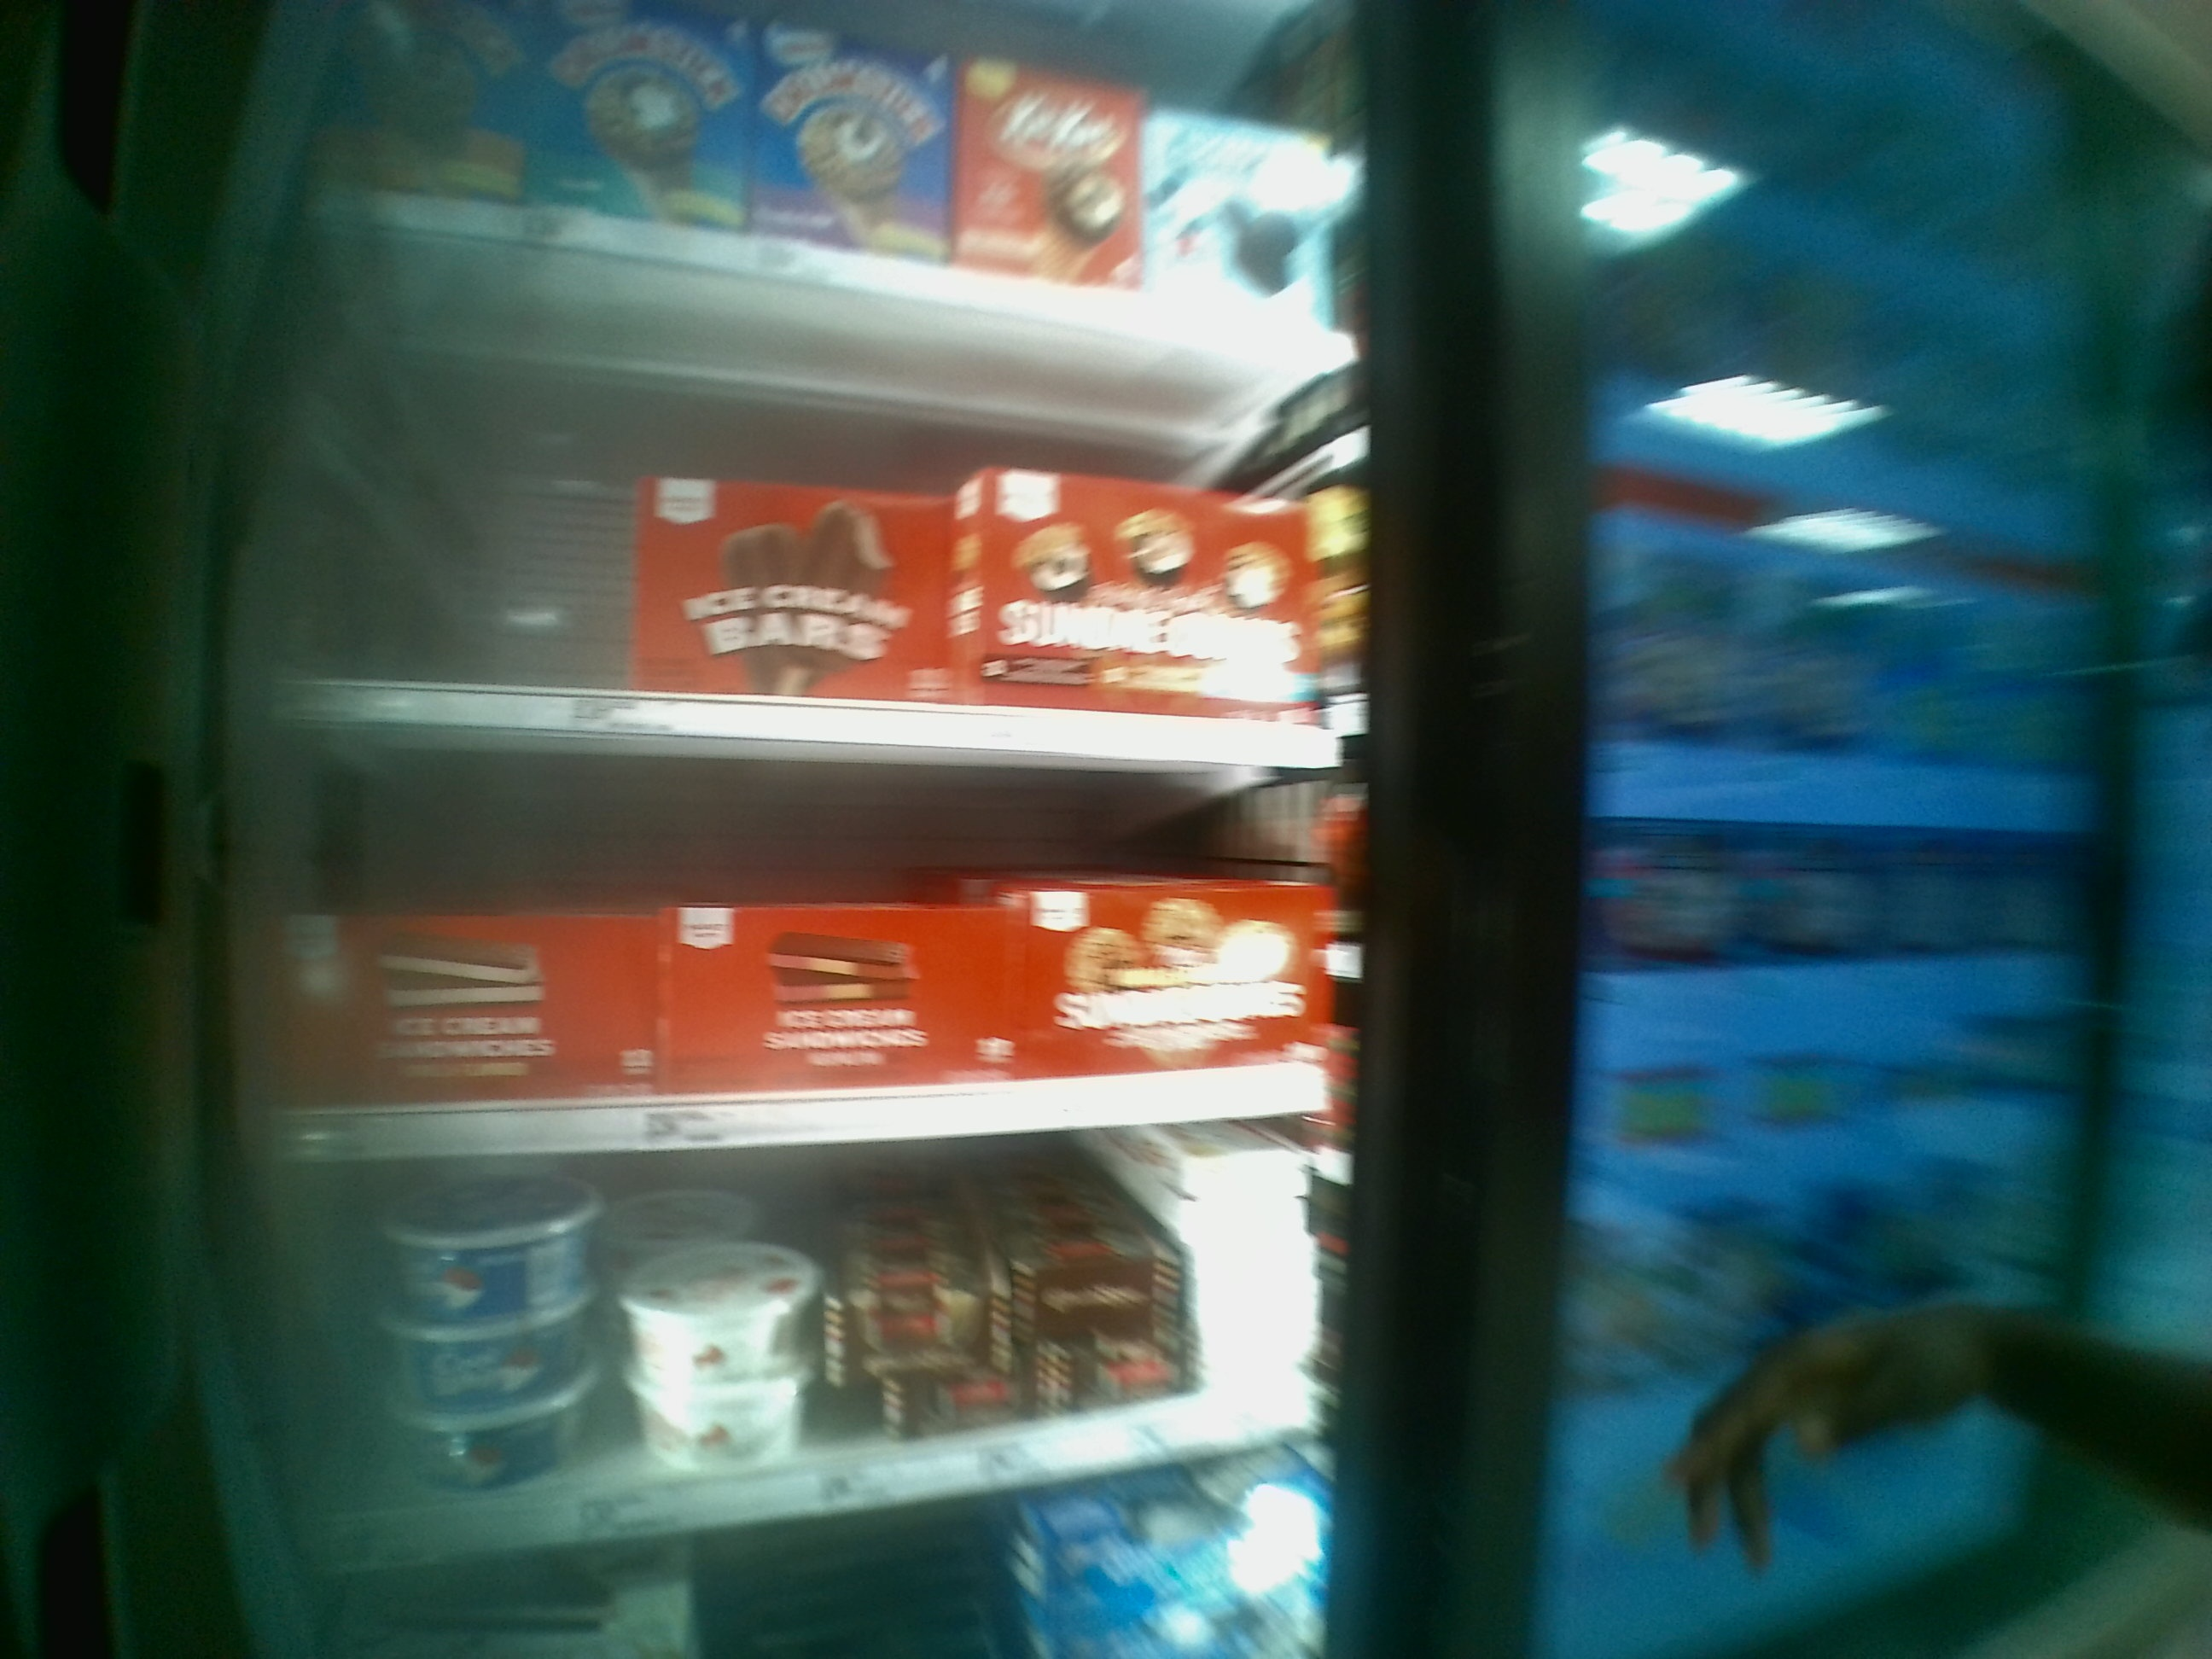frozen-food-shelf: (244, 329, 1388, 784), (239, 784, 1451, 1166)
